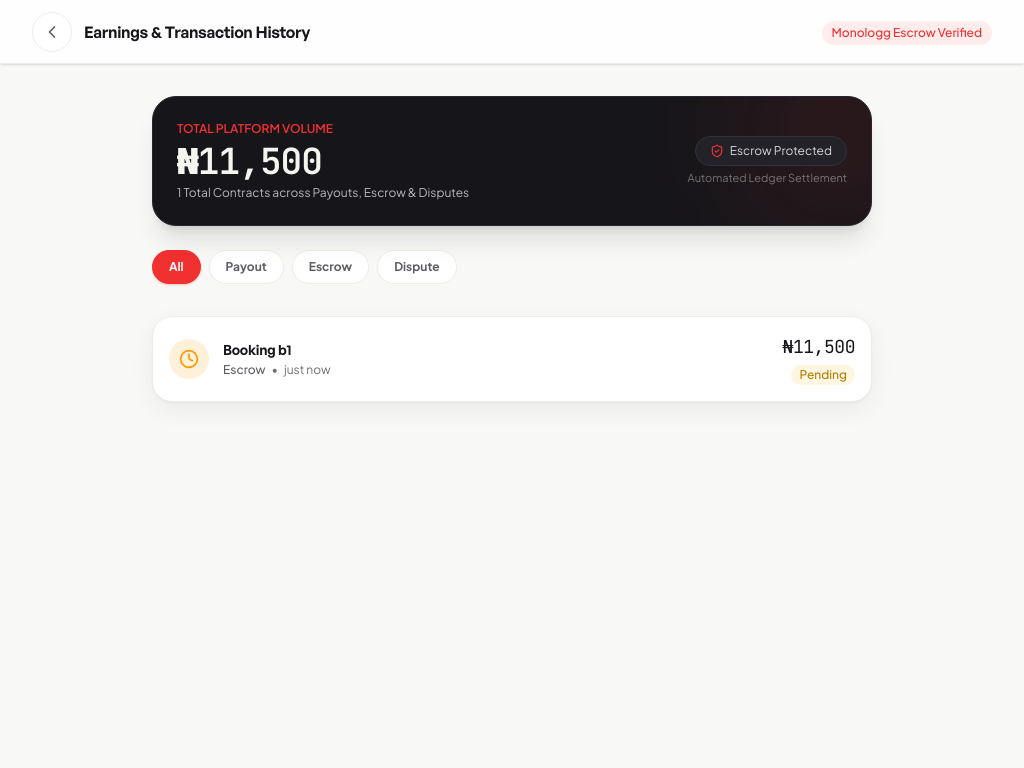
it: TransactionHistory › live mode: renders real fee breakdown from the API
This screenshot has width=1024, height=768.
Expected: the text "₦11,500" below "TOTAL PLATFORM VOLUME" is shown, [177, 137, 322, 185]
# Clicking card opens modal where detailed breakdown is presented
Click the text "Booking b1" at (512, 359), box [152, 316, 872, 402]
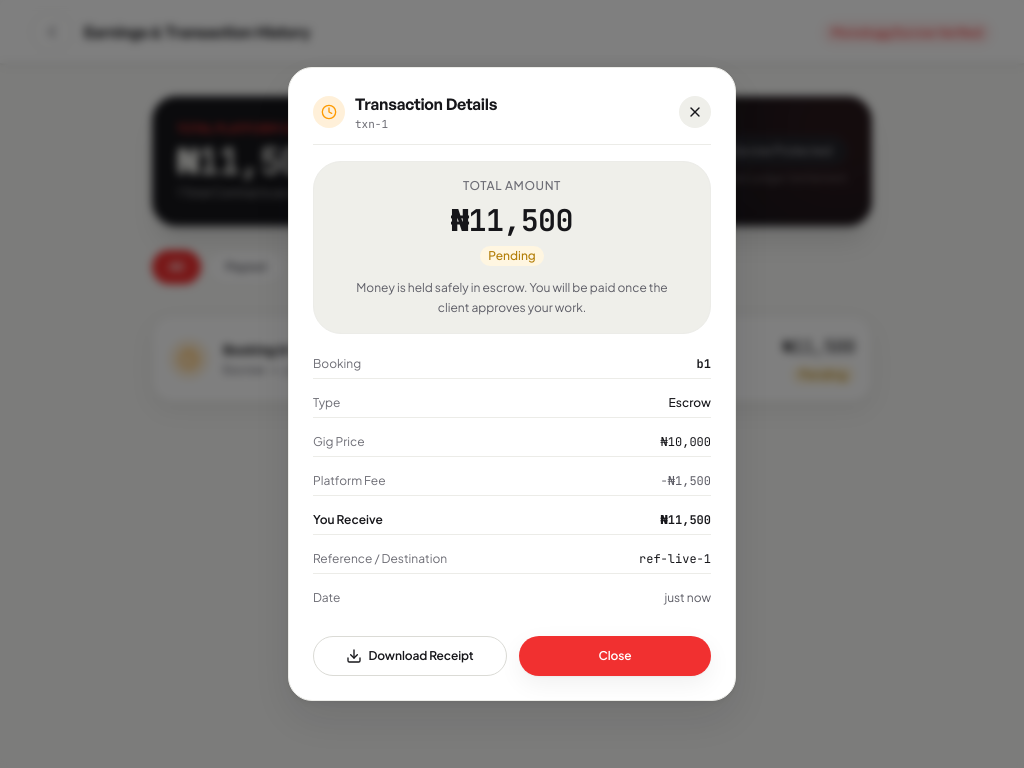
Expected: the text "Gig Price" is shown, [313, 434, 365, 450]
Expected: the text "₦10,000" is shown, [661, 434, 711, 450]
Expected: the text "-₦1,500" is shown, [661, 473, 711, 489]
